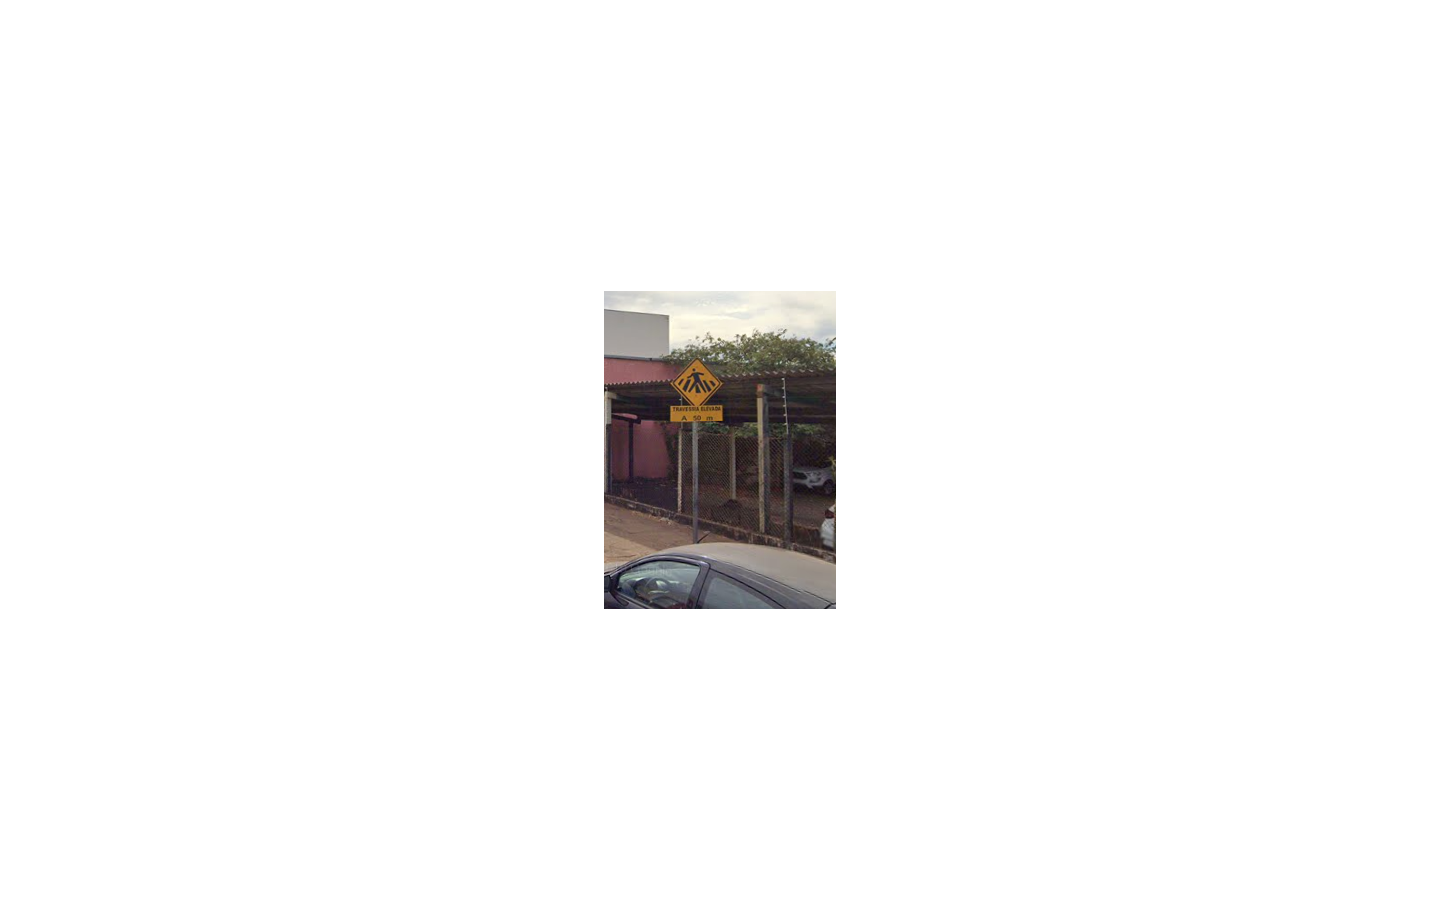t50m: (668, 357, 724, 423)
